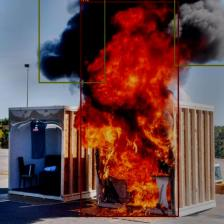fire: (80, 1, 179, 217)
smoke: (38, 0, 105, 83), (174, 0, 224, 65)
